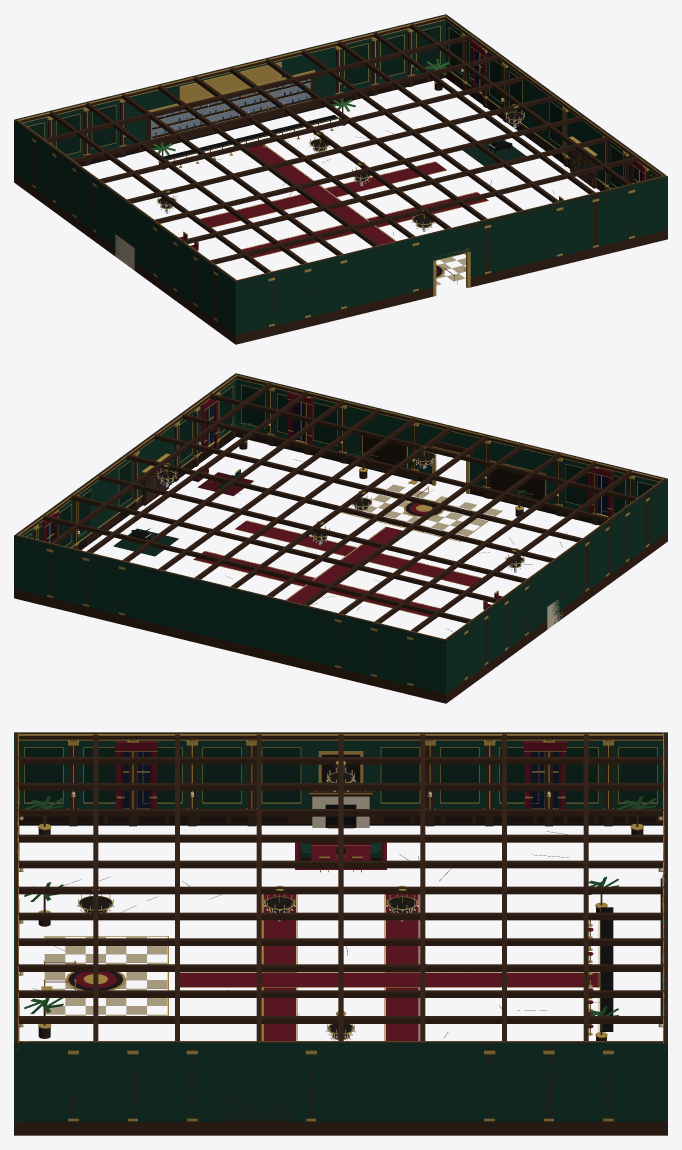
Rendered from lb_bake_lounge.glb.
3 views of the same model, one above another, from view 1: azimuth 30°, elevation 25°; view 2: azimuth 150°, elevation 25°; view 3: azimuth 270°, elevation 25° (orthographic). The views are drawn at different scales.
Size of the model in its own units: 72.02 by 10 by 64.02.
